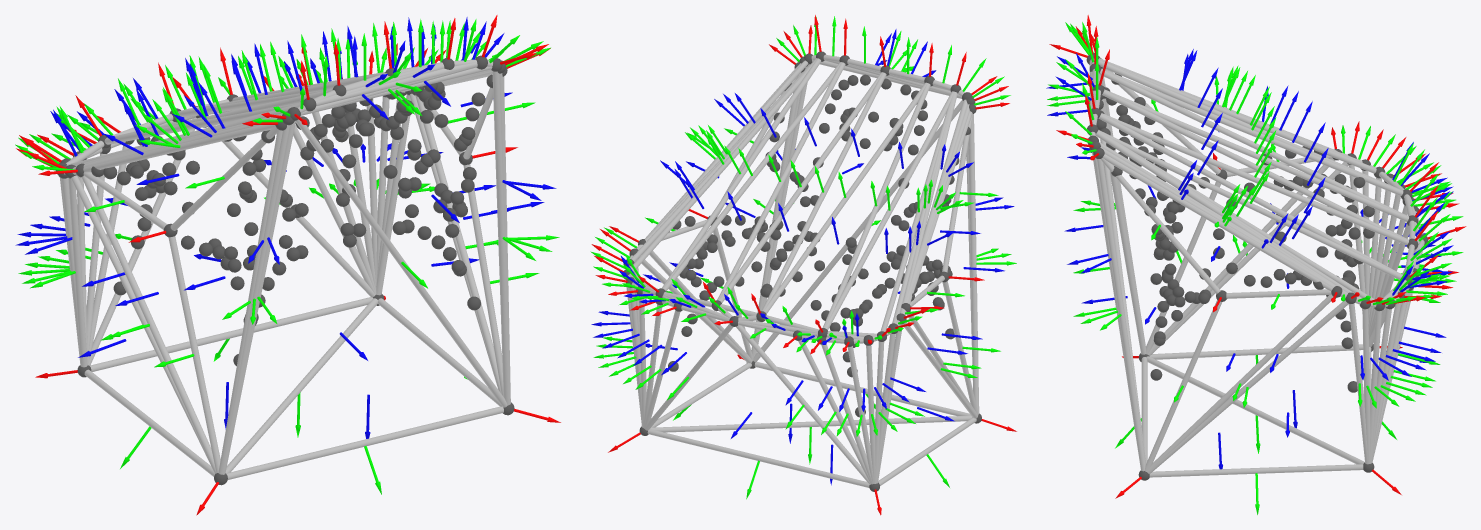
File: author1_chair.gltf
The picture shows the model from 3 angles, left to right: view 1: azimuth 30°, elevation 25°; view 2: azimuth 150°, elevation 25°; view 3: azimuth 270°, elevation 25°; orthographic projection. The views are drawn at different scales.
Size of the model in its own units: 0.707 by 0.7637 by 0.7147.
